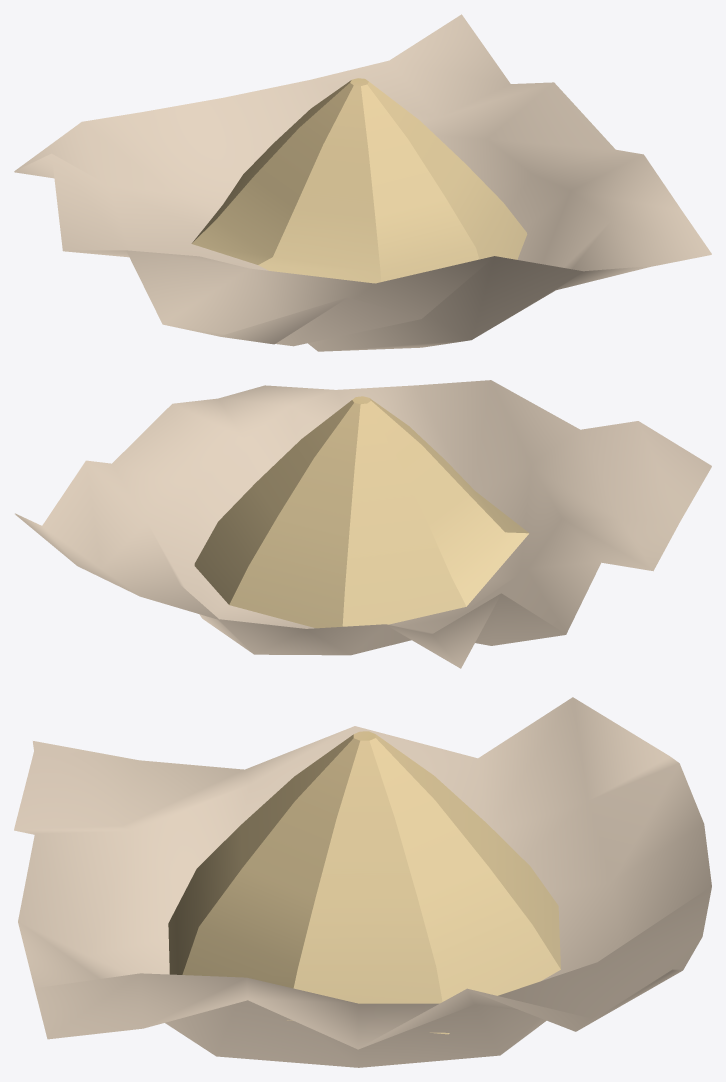
Rendered from flour.fbx.
3 renders of one model, top to bottom at view 1: azimuth 30°, elevation 25°; view 2: azimuth 150°, elevation 25°; view 3: azimuth 270°, elevation 25°, orthographic. The views are drawn at different scales.
Parts seen in each view (by area): view 1: pPlane10; view 2: pPlane10; view 3: pPlane10.
Boxes of the visible parts, x1,y1,x2,y2 form: pPlane10: [14, 14, 711, 351]; pPlane10: [15, 380, 711, 668]; pPlane10: [14, 697, 711, 1067].
Bounding box in the file's own units: 2.35 × 0.9852 × 2.26.
1 material, 1 textured.
